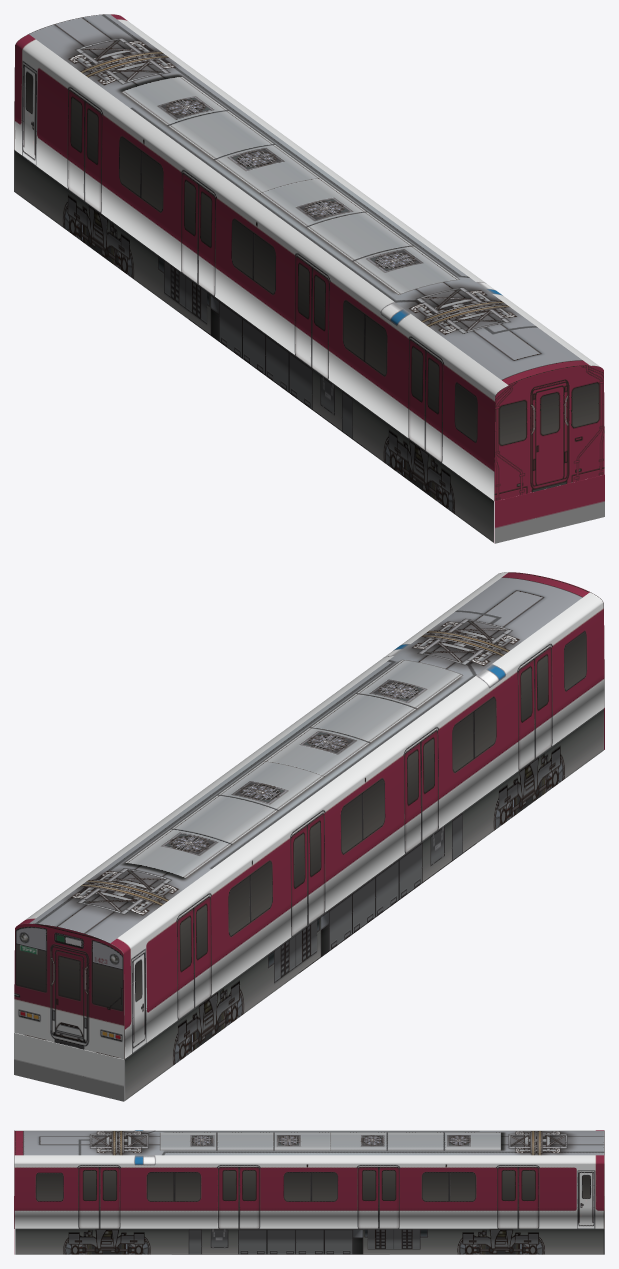
The model's file is car2.glb.
3 renders of one model, top to bottom at view 1: azimuth 30°, elevation 25°; view 2: azimuth 150°, elevation 25°; view 3: azimuth 270°, elevation 25°, orthographic. The views are drawn at different scales.
Visible parts, largest first — view 1: kintetsu-1440-car2; view 2: kintetsu-1440-car2; view 3: kintetsu-1440-car2.
Part boxes in pixels (left/top/right/bottom): kintetsu-1440-car2: left=14, top=14, right=604, bottom=543; kintetsu-1440-car2: left=14, top=572, right=604, bottom=1101; kintetsu-1440-car2: left=14, top=1130, right=604, bottom=1254.
Bounding box in the file's own units: 2.74 × 3.77 × 20.75.
Materials: 8 (7 with a texture image).
